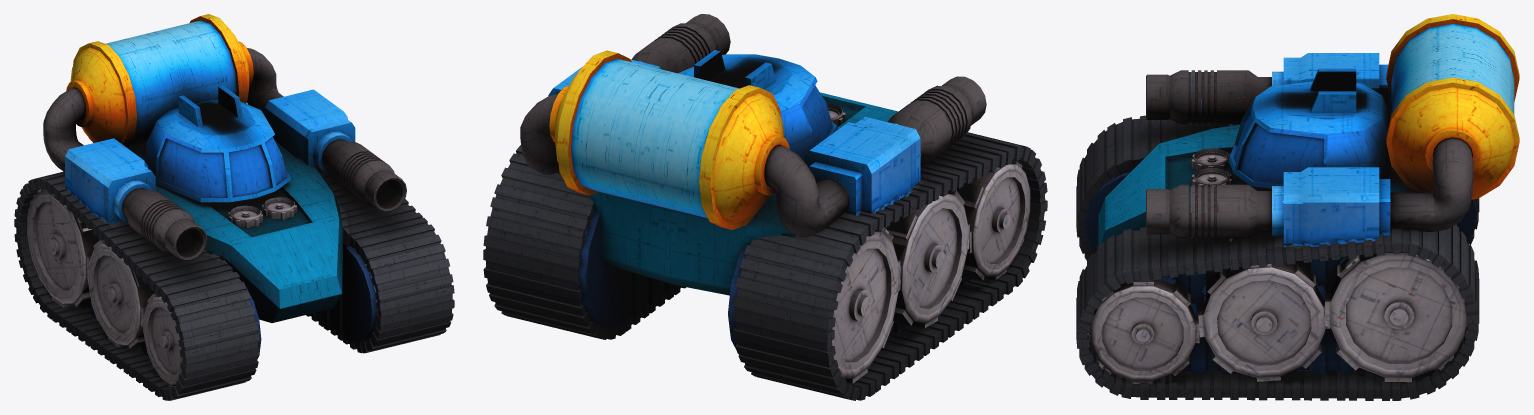
The model's file is PlayerB1.obj.
3 views of the same model, side by side, from view 1: azimuth 30°, elevation 25°; view 2: azimuth 150°, elevation 25°; view 3: azimuth 270°, elevation 25° (orthographic). The views are drawn at different scales.
Parts seen in each view (by area): view 1: Object001, Box042, Object004, Object003, Object002; view 2: Object001, Box042, Object003, Object004, Object002; view 3: Object001, Box042, Object004, Object003, Object002.
Part boxes in pixels (x1,y1,x2,y2): Object001: [43, 14, 406, 359]; Box042: [14, 171, 454, 400]; Object004: [27, 189, 99, 307]; Object003: [87, 240, 154, 348]; Object002: [143, 293, 182, 386]; Object001: [520, 14, 986, 354]; Box042: [483, 132, 1047, 400]; Object003: [888, 190, 969, 328]; Object004: [832, 227, 900, 383]; Object002: [958, 160, 1030, 280]; Object001: [1085, 14, 1519, 374]; Box042: [1076, 115, 1479, 400]; Object004: [1324, 252, 1467, 382]; Object003: [1198, 261, 1330, 381]; Object002: [1087, 278, 1199, 384].
Size of the model in its own units: 121 by 101 by 147.
Materials: 2 (2 with a texture image).
